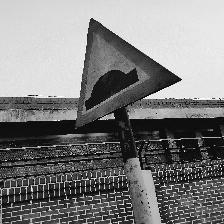Speed-breaker: (75, 18, 182, 128)
